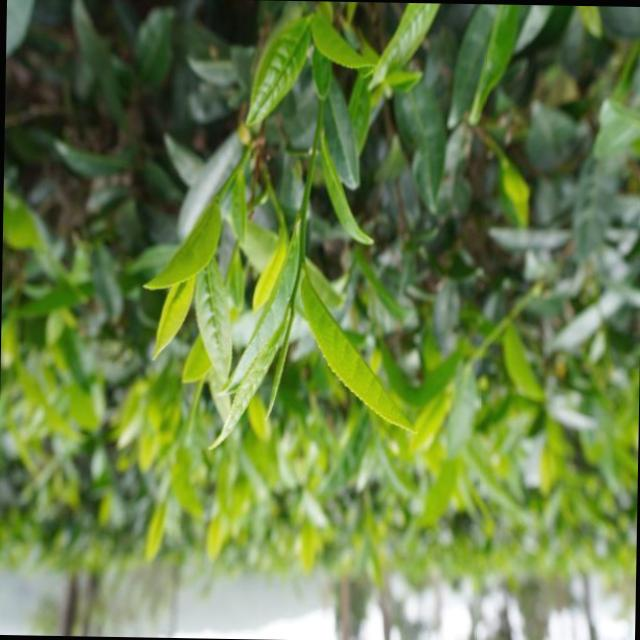Stem: (237, 148, 250, 166), (297, 229, 304, 260)
